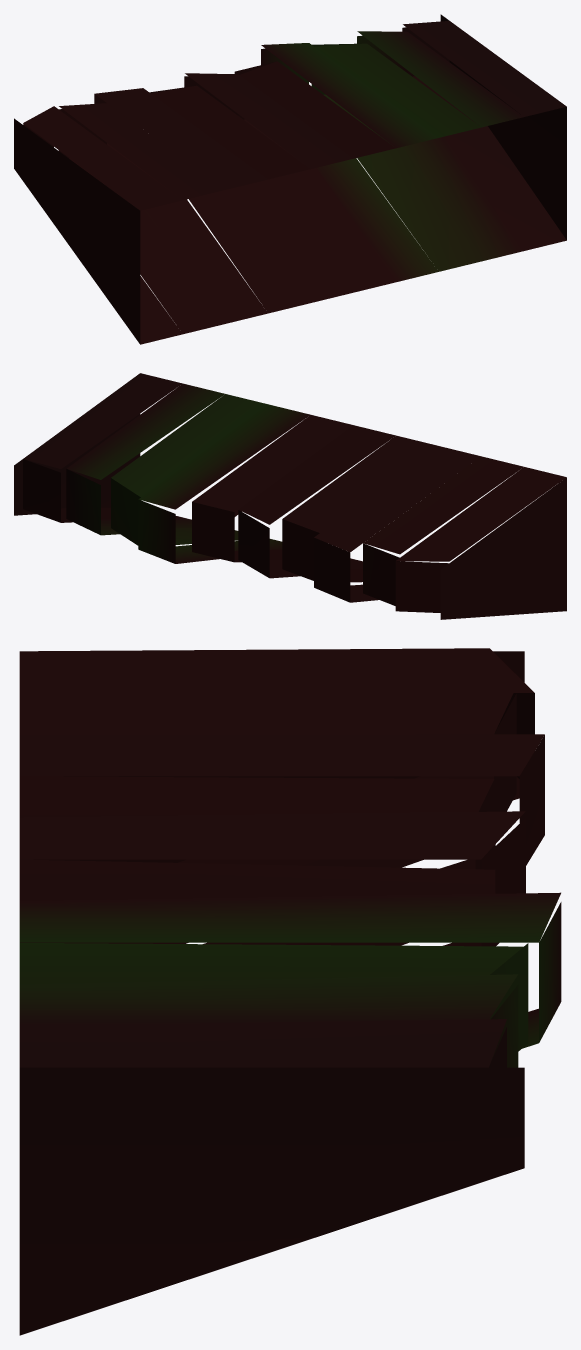
Rendered from tf_basalt_ledge_8m.glb.
3 renders of one model, top to bottom at view 1: azimuth 30°, elevation 25°; view 2: azimuth 150°, elevation 25°; view 3: azimuth 270°, elevation 25°, orthographic. The views are drawn at different scales.
Parts seen in each view (by area): view 1: tf_basalt_ledge_8m; view 2: tf_basalt_ledge_8m; view 3: tf_basalt_ledge_8m.
Part boxes in pixels (x1,y1,x2,y2): tf_basalt_ledge_8m: (14,14,566,344); tf_basalt_ledge_8m: (14,373,566,619); tf_basalt_ledge_8m: (19,648,561,1335).
Size of what is drawn, in the model's own units: 8 by 2.49 by 4.4.
